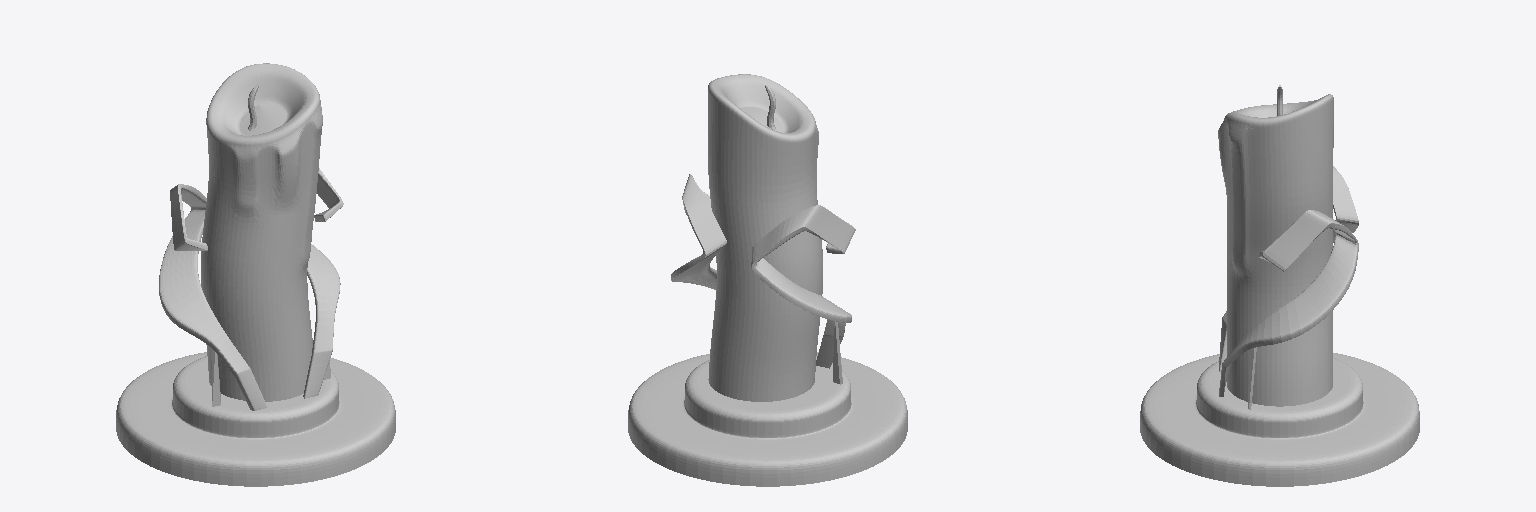
Rendered from candle.obj.
The picture shows the model from 3 angles: view 1: azimuth 30°, elevation 25°; view 2: azimuth 150°, elevation 25°; view 3: azimuth 270°, elevation 25°; orthographic projection.
Parts seen in each view (by area): view 1: Candle_1; view 2: Candle_1; view 3: Candle_1.
Boxes of the visible parts, box(x1,y1,x2,y2) form: Candle_1: box(116, 63, 395, 486); Candle_1: box(628, 74, 907, 486); Candle_1: box(1140, 85, 1419, 486).
Bounding box in the file's own units: 0.1778 × 0.2401 × 0.1778.